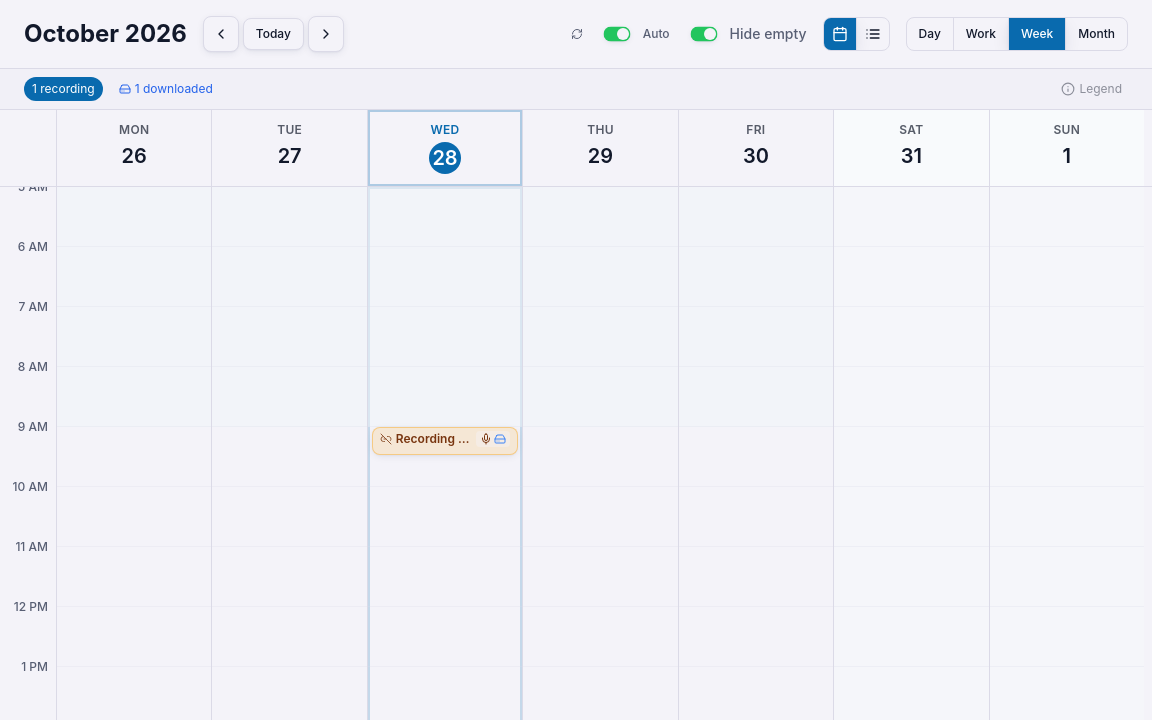
Scenario: Calendar — design language › exposes the legend from the stats bar
The width and height of the screenshot is (1152, 720).
Click the button with aria-label "calendar legend" at (1092, 89), box [1055,79,1128,99]
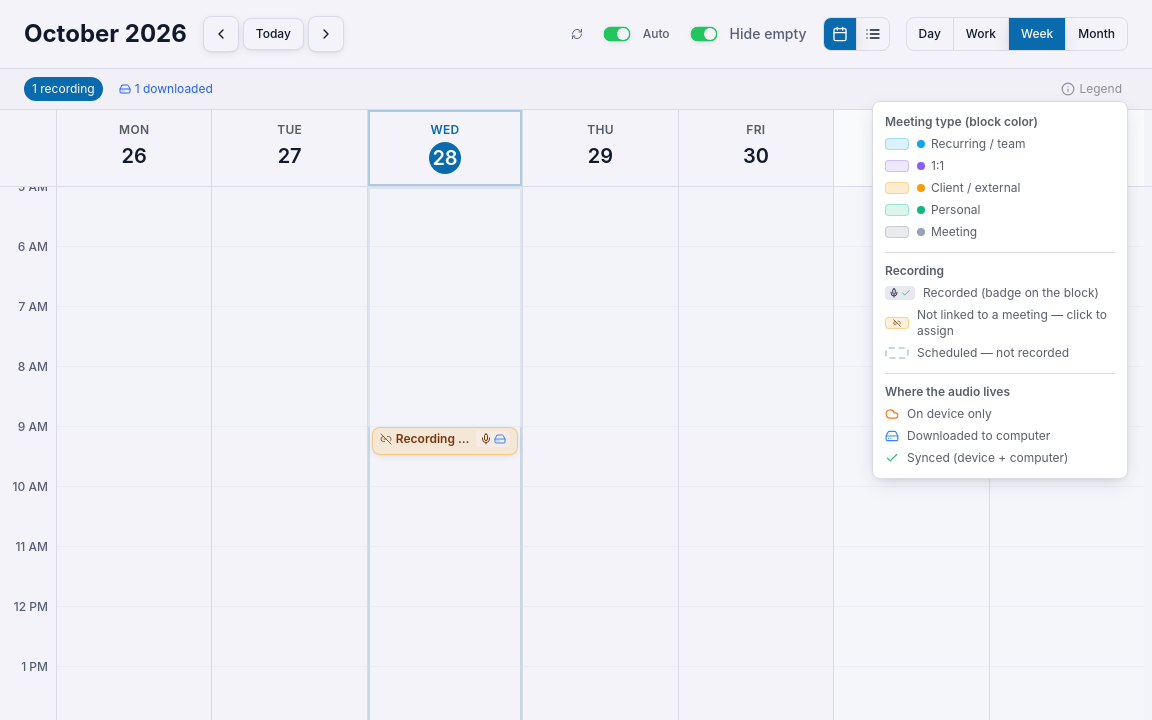
Expected: the text "Recurring / team" is shown, [917,136,1025,152]
Expected: the text "Not linked to a meeting — click to assign" is shown, [917,307,1115,339]
